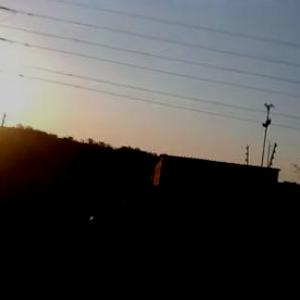follow: (83, 160, 163, 299)
